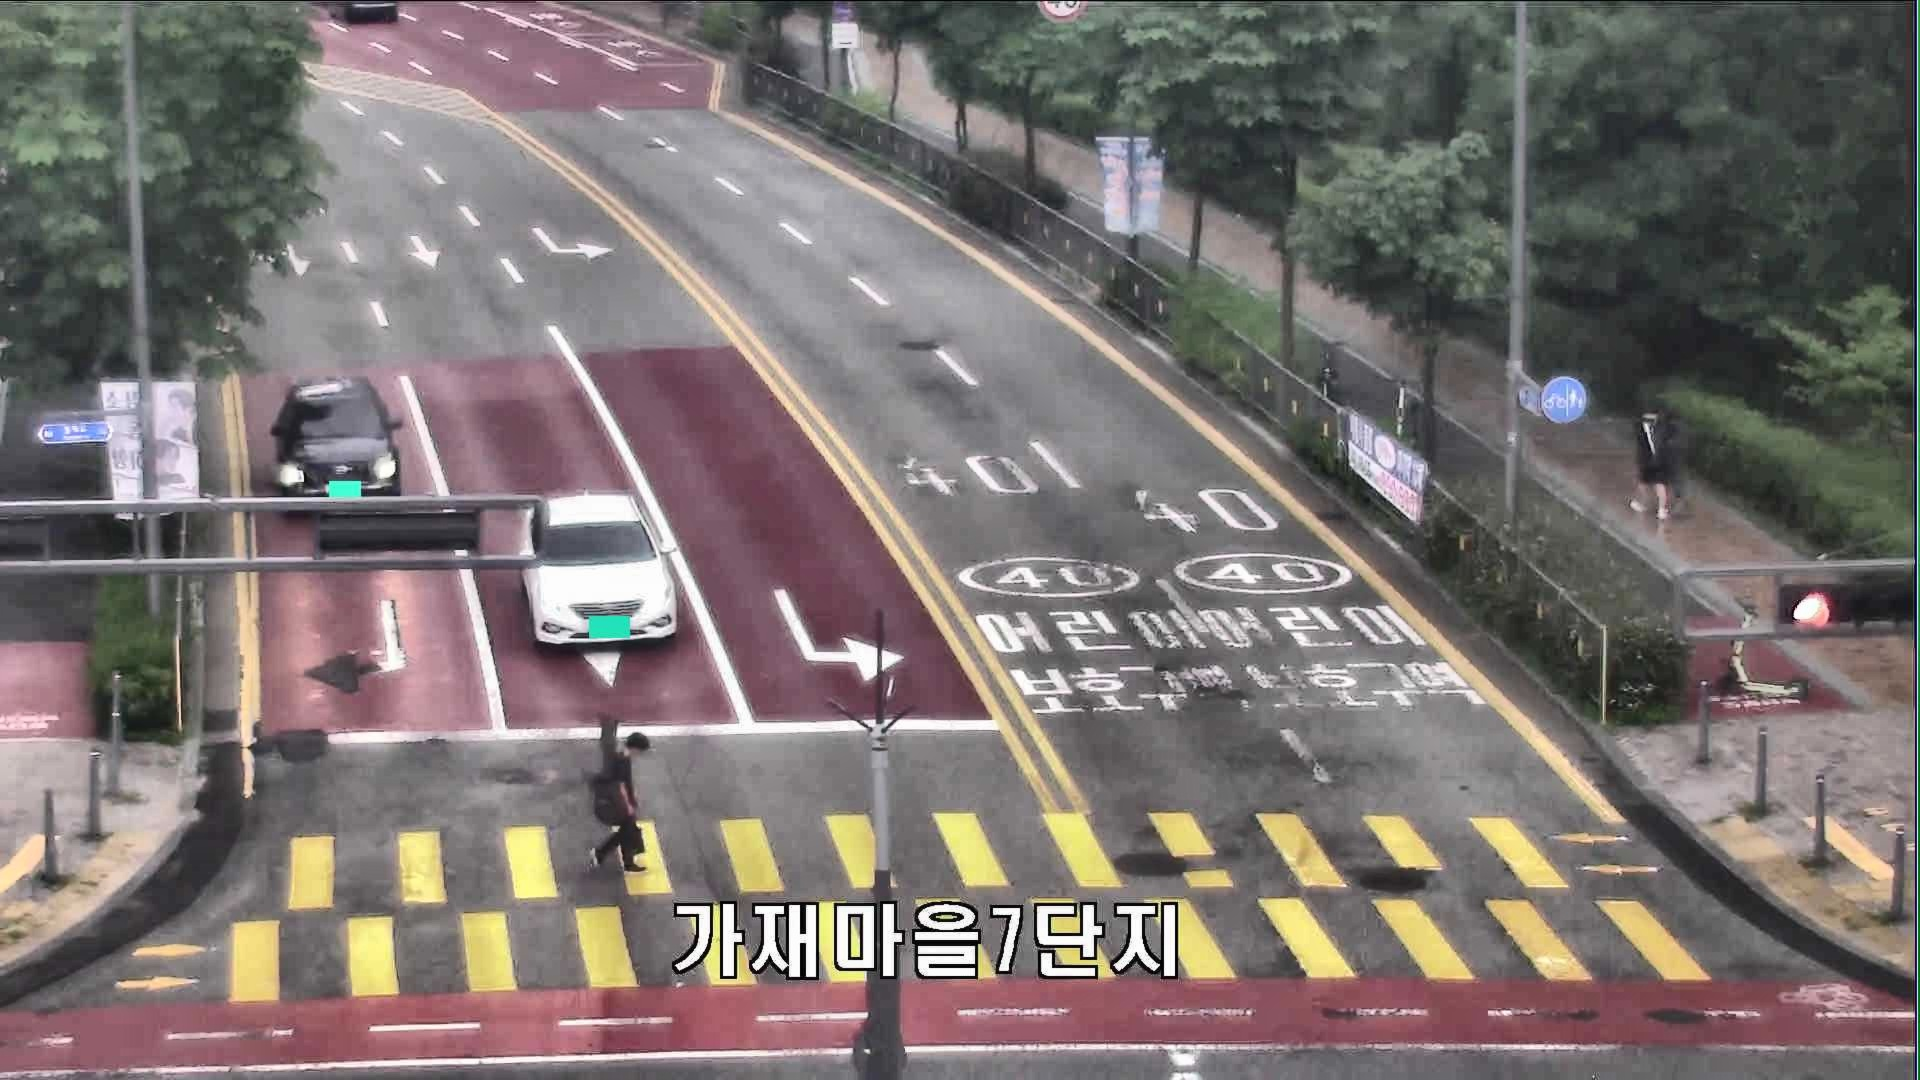crosswalk: (585, 708, 653, 866)
sidewalk: (1625, 397, 1669, 521), (1662, 404, 1691, 524)
